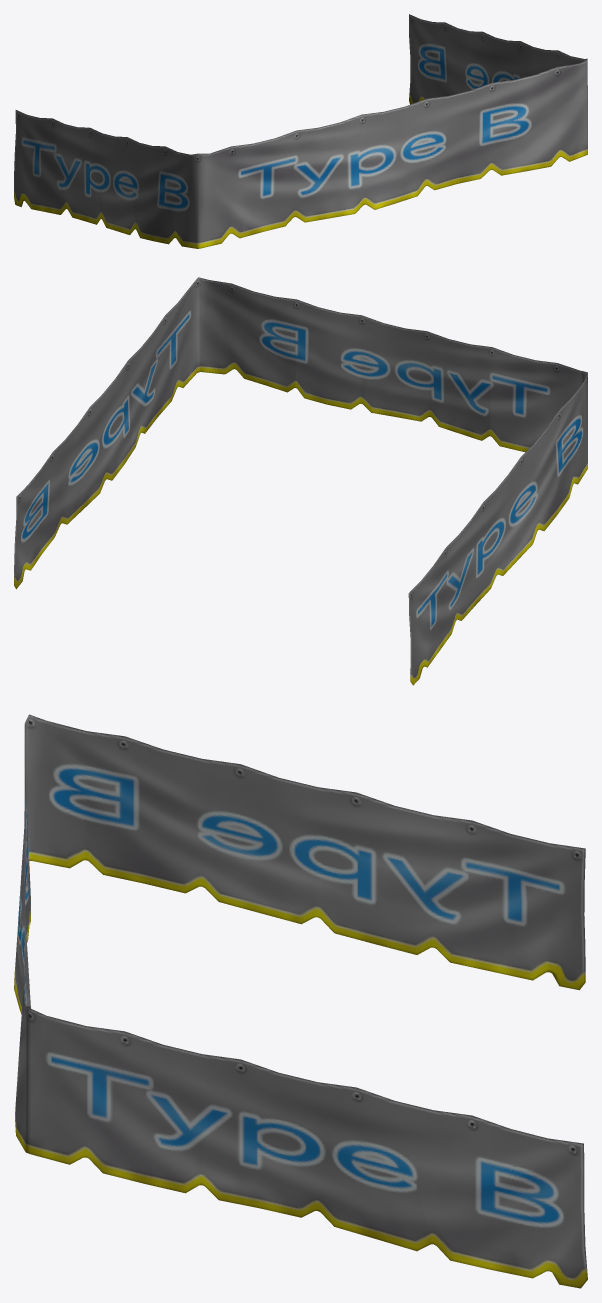
The model's file is jsf_ShopCurtain_b_s02.fbx.
3 views of the same model, one above another, from view 1: azimuth 30°, elevation 25°; view 2: azimuth 150°, elevation 25°; view 3: azimuth 270°, elevation 25° (orthographic). The views are drawn at different scales.
Visible parts, largest first — view 1: jsf_ShopCurtain_b_s02; view 2: jsf_ShopCurtain_b_s02; view 3: jsf_ShopCurtain_b_s02.
Boxes of the visible parts, box(x1,y1,x2,y2) form: jsf_ShopCurtain_b_s02: box(14, 14, 587, 248); jsf_ShopCurtain_b_s02: box(14, 277, 587, 685); jsf_ShopCurtain_b_s02: box(14, 714, 587, 1288).
Bounding box in the file's own units: 269 × 116 × 216.
